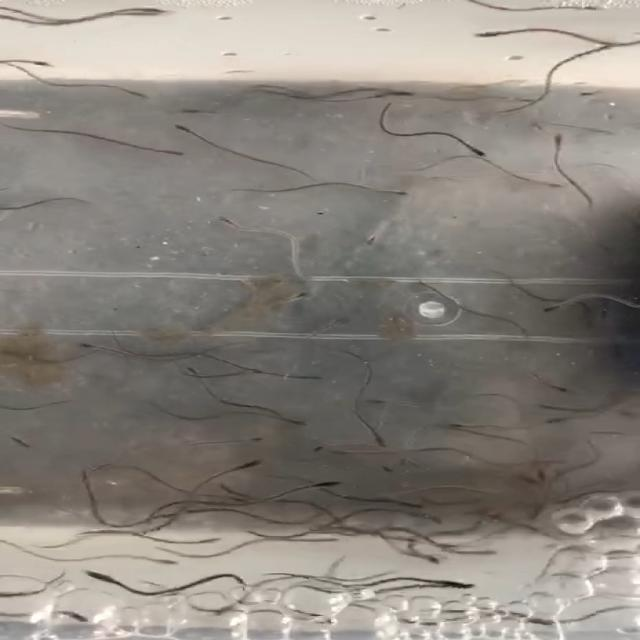active_glass_eel: (138, 508, 196, 531), (364, 85, 420, 106), (512, 300, 565, 322), (70, 563, 119, 585), (56, 606, 102, 629), (161, 505, 227, 520), (382, 494, 447, 509), (160, 123, 202, 146), (470, 27, 507, 52), (398, 551, 446, 570), (456, 544, 513, 560), (116, 84, 172, 100), (236, 456, 278, 476), (196, 212, 246, 228), (143, 553, 184, 572), (532, 176, 580, 192), (416, 510, 456, 528), (302, 366, 338, 386), (581, 38, 611, 62), (313, 444, 361, 458), (434, 416, 470, 434), (212, 479, 250, 496), (304, 532, 347, 547), (356, 229, 387, 249), (287, 416, 319, 435), (387, 185, 430, 199), (363, 392, 398, 408), (178, 104, 218, 118), (440, 580, 483, 593), (311, 475, 342, 493), (284, 290, 323, 304), (415, 578, 469, 588), (543, 129, 576, 145), (365, 437, 405, 450), (150, 148, 193, 160), (457, 146, 507, 156), (68, 341, 112, 352), (328, 315, 366, 327), (190, 535, 220, 550), (529, 468, 566, 480), (179, 368, 211, 381), (0, 586, 25, 602), (130, 4, 180, 12), (128, 8, 177, 16), (222, 494, 259, 504), (238, 438, 275, 448), (550, 382, 578, 395), (538, 402, 567, 413), (24, 59, 61, 67), (560, 6, 606, 12), (546, 415, 567, 426)
